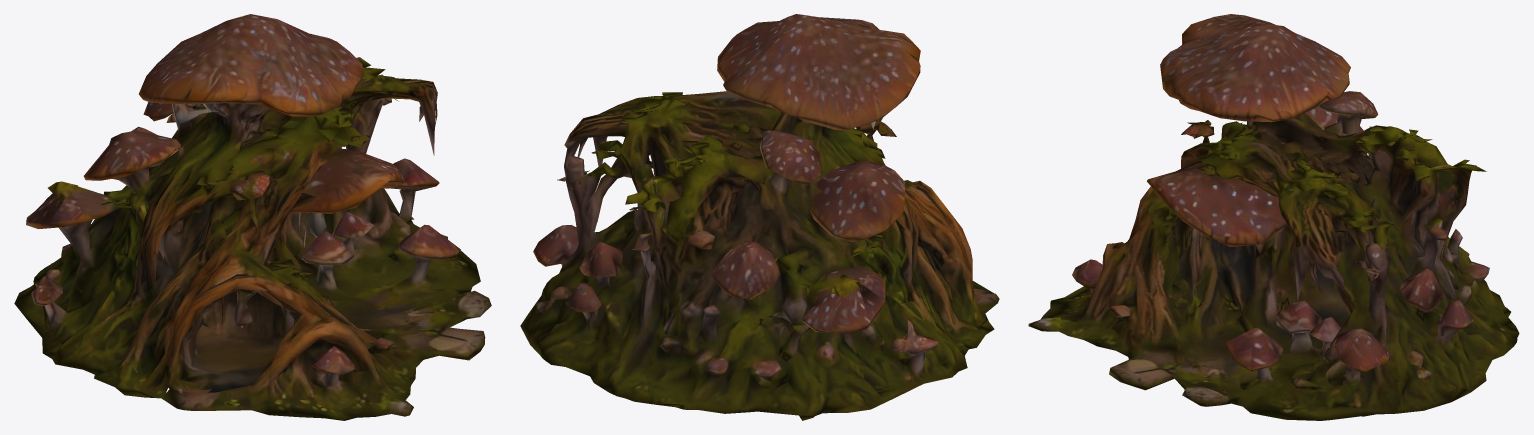
3 views of the same model, side by side, from view 1: azimuth 30°, elevation 25°; view 2: azimuth 150°, elevation 25°; view 3: azimuth 270°, elevation 25° (orthographic). The views are drawn at different scales.
Parts seen in each view (by area): view 1: tripo_node_986157dd-89ef-4565-89ad-3413f6015390; view 2: tripo_node_986157dd-89ef-4565-89ad-3413f6015390; view 3: tripo_node_986157dd-89ef-4565-89ad-3413f6015390.
Boxes of the visible parts, x1,y1,x2,y2 form: tripo_node_986157dd-89ef-4565-89ad-3413f6015390: (14,14,491,420); tripo_node_986157dd-89ef-4565-89ad-3413f6015390: (520,14,999,420); tripo_node_986157dd-89ef-4565-89ad-3413f6015390: (1028,14,1519,420).
Bounding box in the file's own units: 3.29 × 2.39 × 3.6.
1 material, 1 textured.
